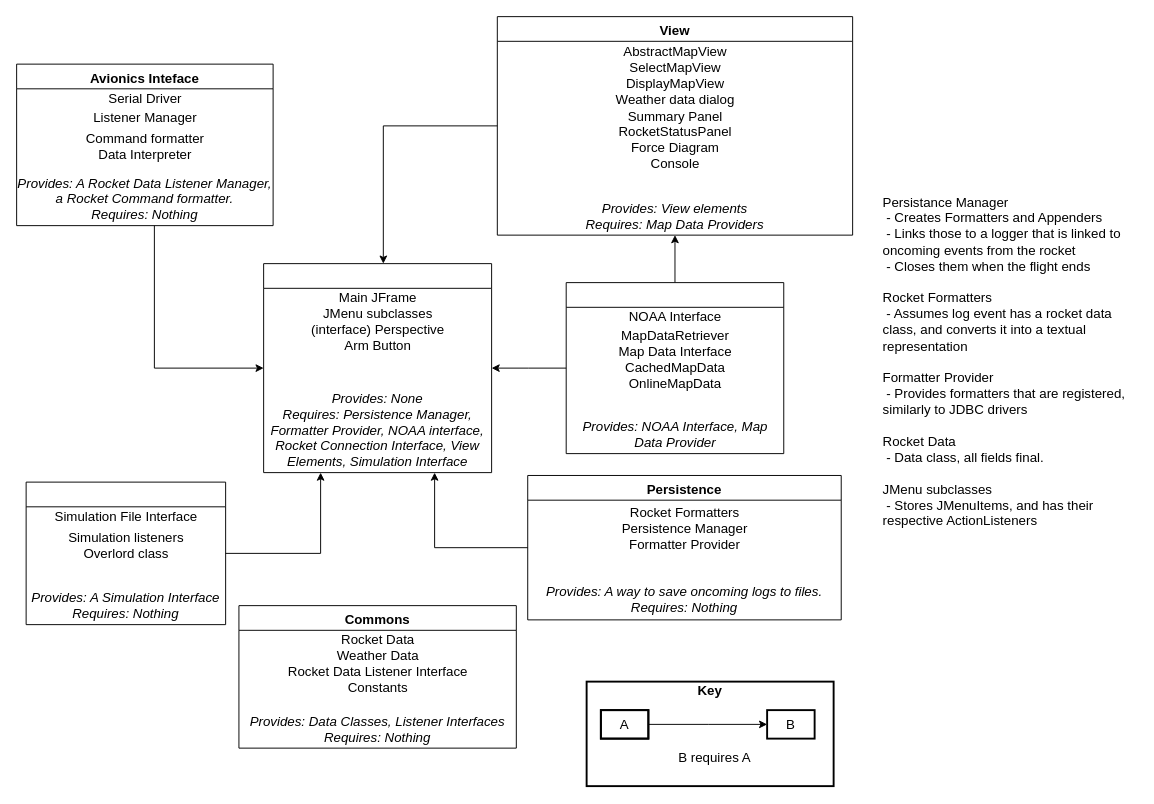
Image size: 1154x804. Some labels were removed from this diagram. Here are the shapes that lost their labels. From the top down, the box of each, then its label:
(263, 263, 492, 473): Controller
(565, 282, 784, 454): External Data
(25, 481, 226, 625): OpenRocket/Monte Carlo
